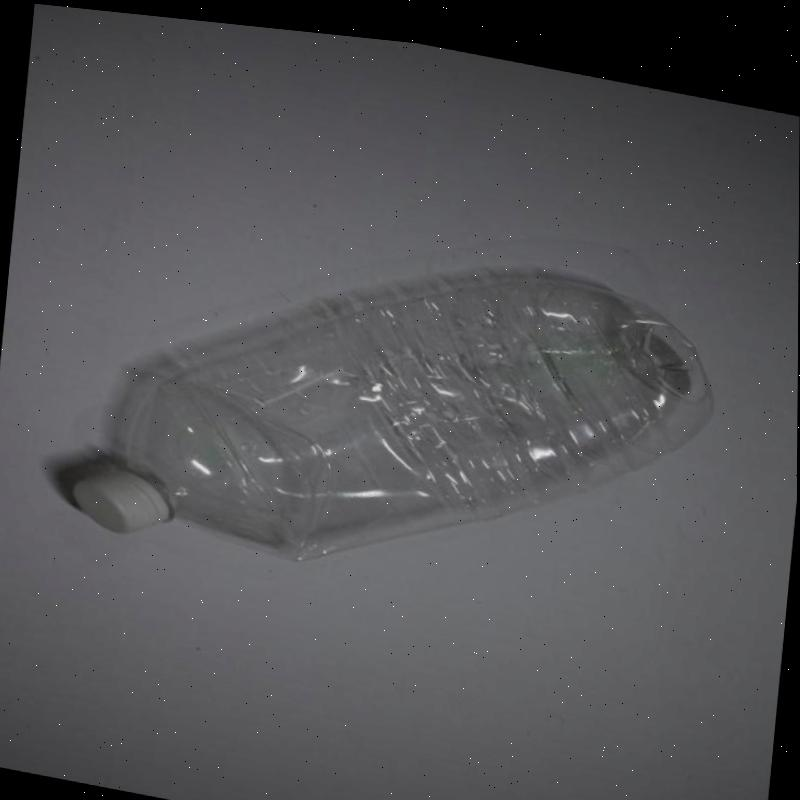botella: (60, 183, 721, 630)
